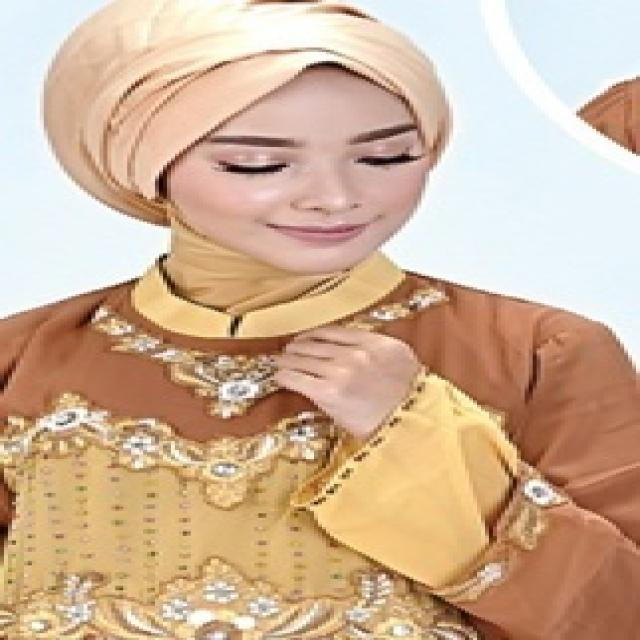head: (98, 21, 452, 281)
